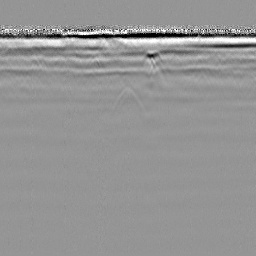cavity: (110, 84, 147, 116)
